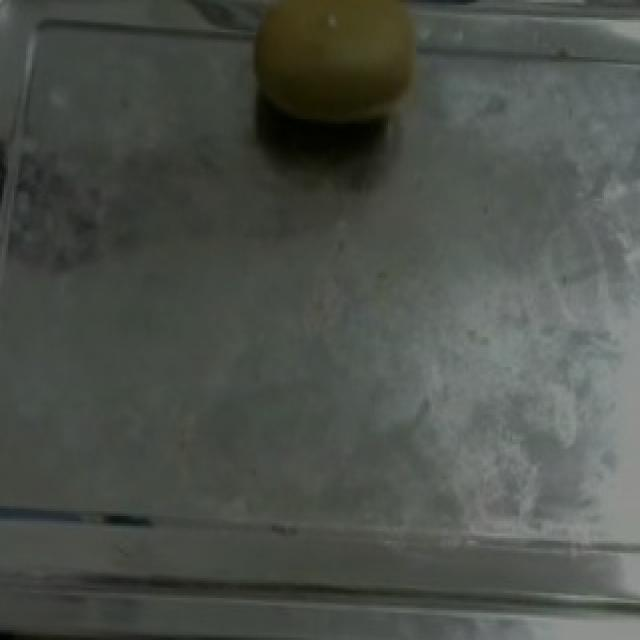Fruit: (230, 0, 426, 134)
